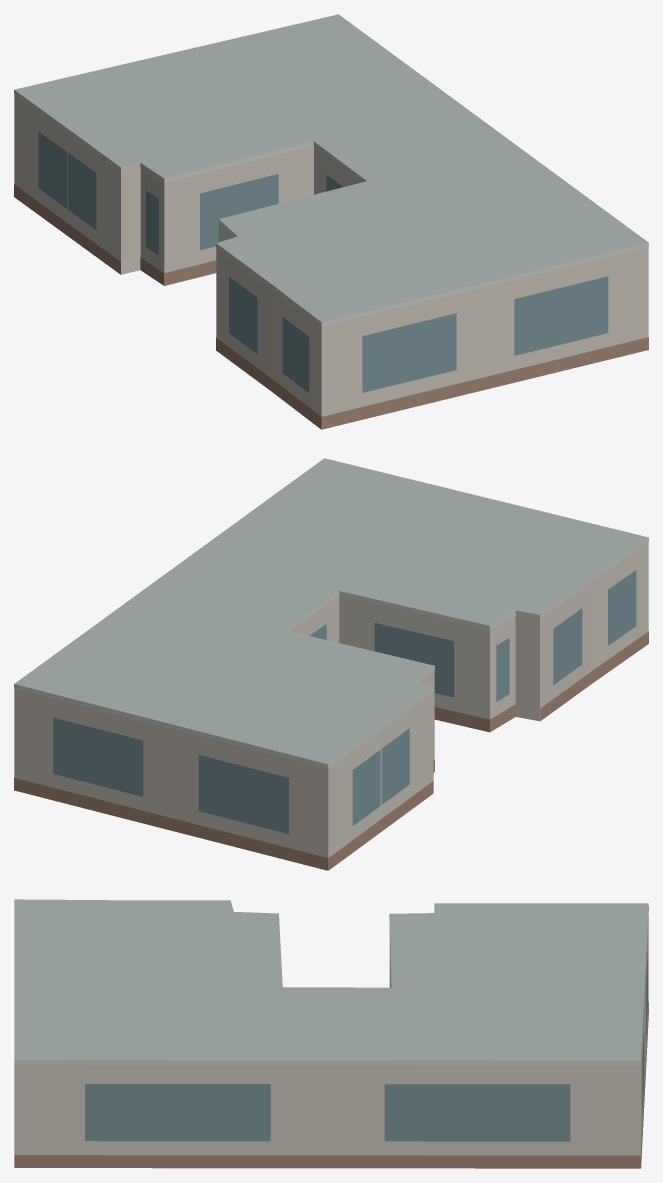
Rendered from survey-upis-32637965.glb.
3 renders of one model, top to bottom at view 1: azimuth 30°, elevation 25°; view 2: azimuth 150°, elevation 25°; view 3: azimuth 270°, elevation 25°, orthographic.
Parts seen in each view (by area): view 1: survey-upis-32637965.tmp; view 2: survey-upis-32637965.tmp; view 3: survey-upis-32637965.tmp.
Part boxes in pixels (bbox=[...]): survey-upis-32637965.tmp: bbox=[14, 14, 648, 429]; survey-upis-32637965.tmp: bbox=[14, 458, 648, 870]; survey-upis-32637965.tmp: bbox=[14, 899, 648, 1168].
Bounding box in the file's own units: 9.78 × 3.05 × 16.27.
